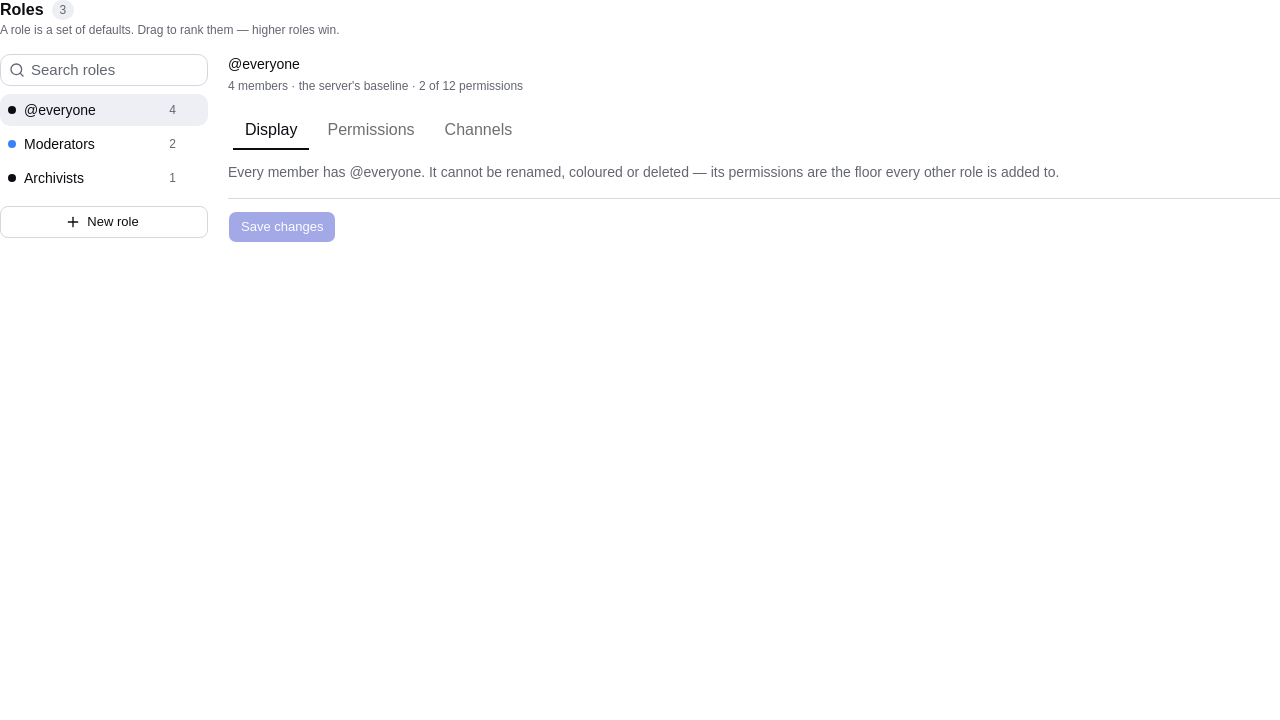
RolesPage › uses the singular noun for a role held by one person
Expected: the list named "Roles" is shown, [0,94,208,194]
Click the button "Archivists 1" at [90, 178], box [0,162,180,194]
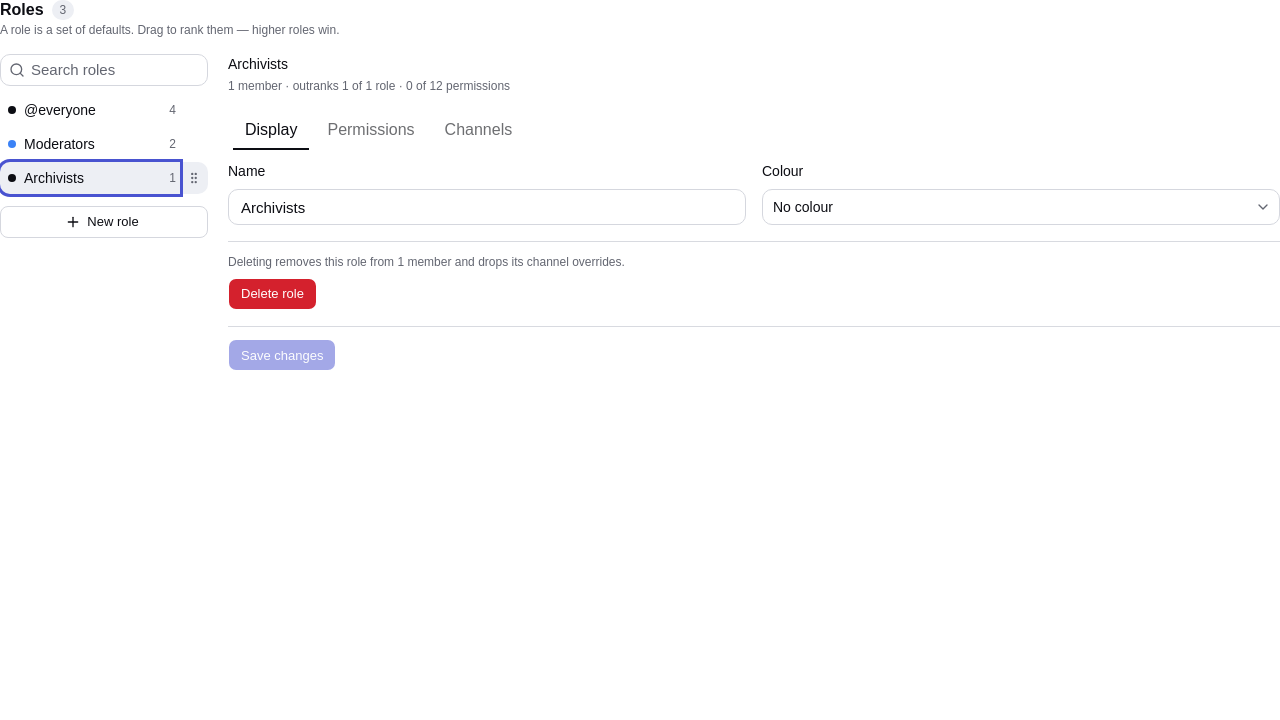
Click the button "Delete role" at [272, 294], box [228,278,317,310]
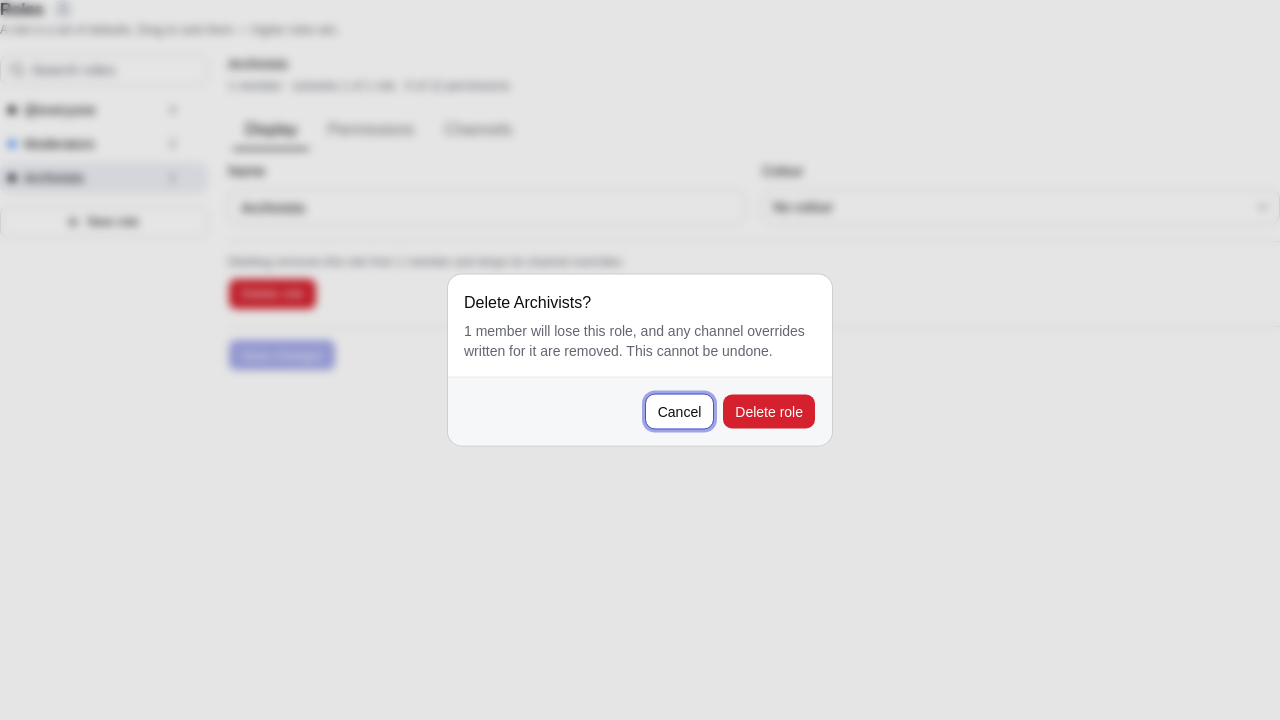
Expected: the text "1 member will lose this role" is shown, [464,320,816,360]
